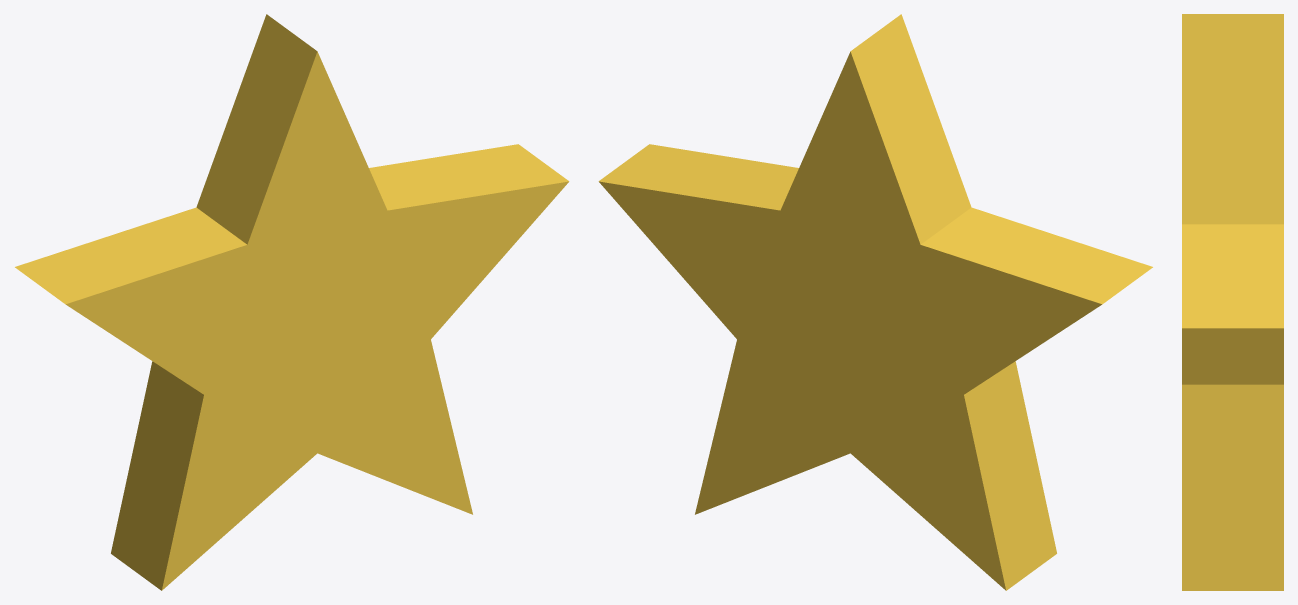
Rendered from Prop_Space_Star.fbx.
3 renders of one model, left to right at view 1: azimuth 30°, elevation 25°; view 2: azimuth 150°, elevation 25°; view 3: azimuth 270°, elevation 25°, orthographic.
Parts seen in each view (by area): view 1: Prop_Space_Star; view 2: Prop_Space_Star; view 3: Prop_Space_Star.
Boxes of the visible parts, <box> form: Prop_Space_Star: <box>15,14,569,590</box>; Prop_Space_Star: <box>598,14,1152,590</box>; Prop_Space_Star: <box>1182,14,1283,590</box>.
Size of the model in its own units: 1.14 by 1.09 by 0.2.
